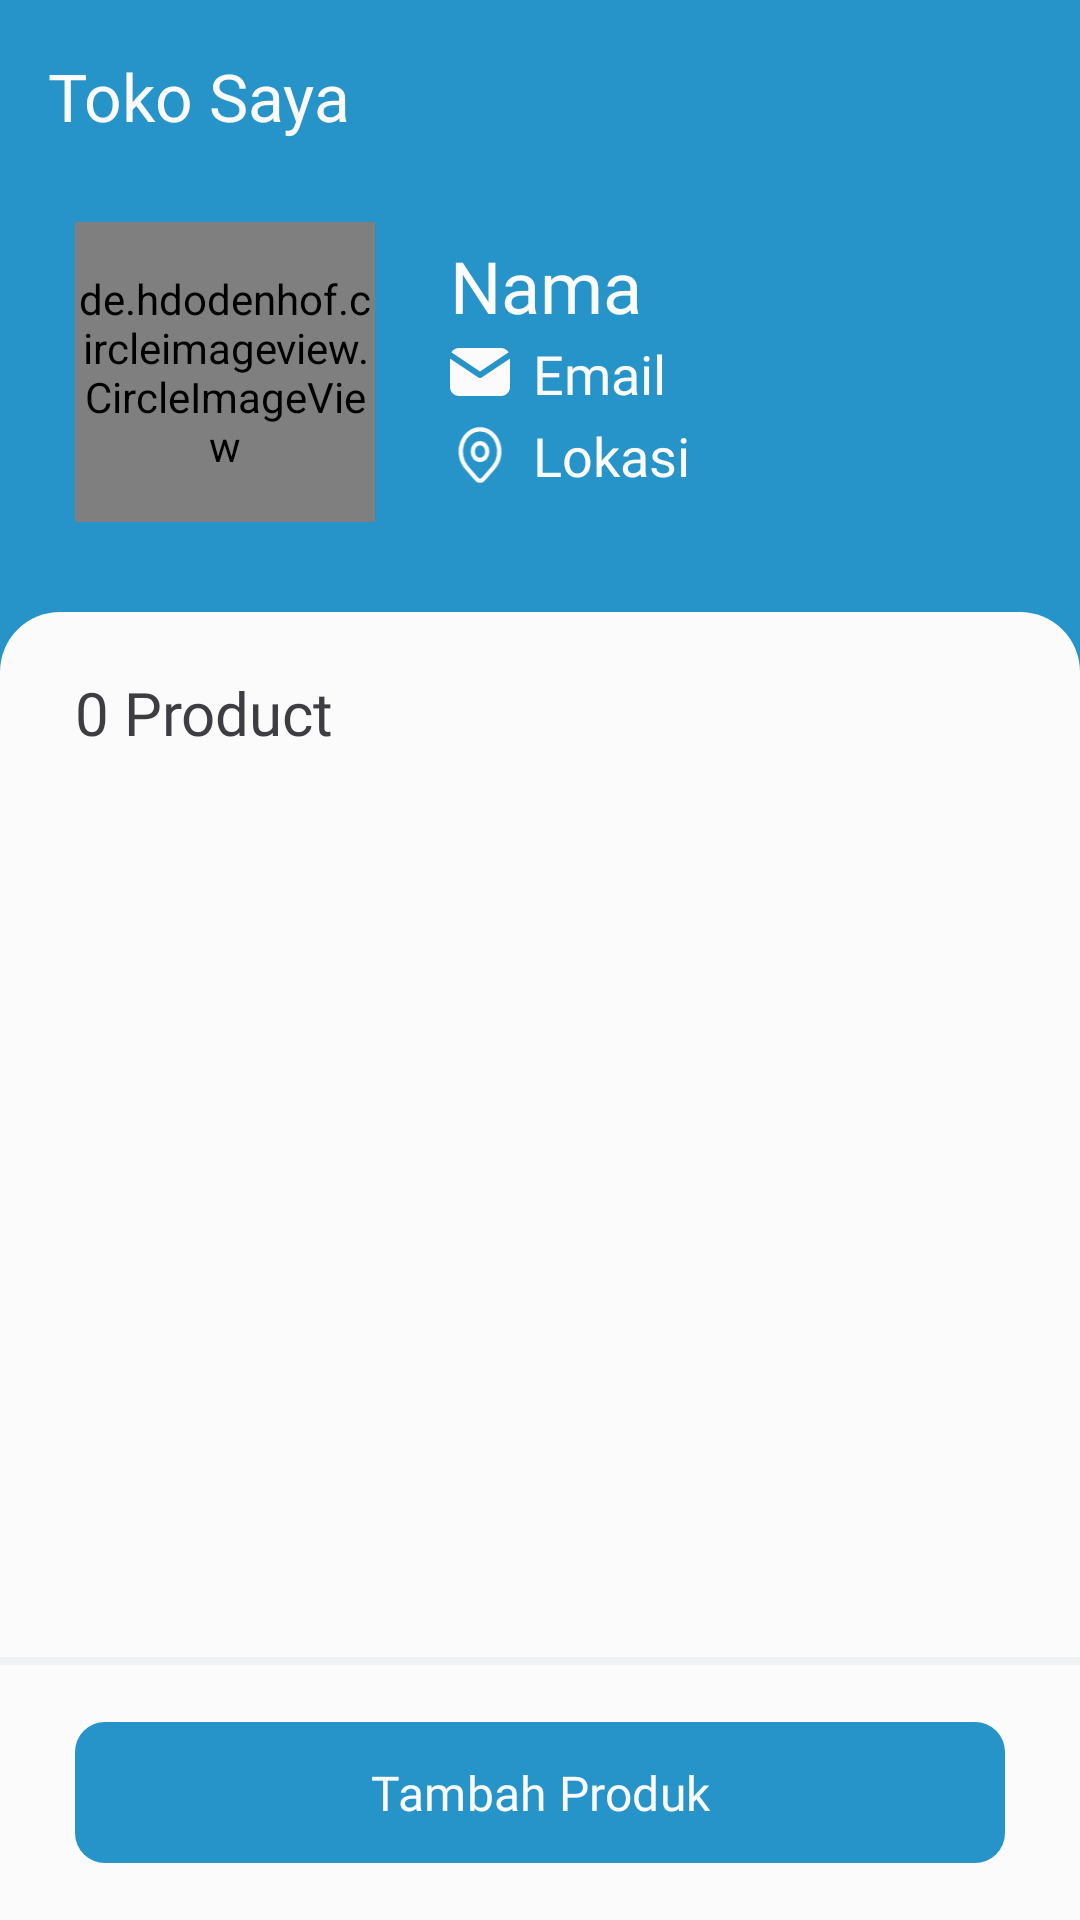

Where to tap for icons on this 1080 x 1920 app screen, as [x,y]:
Image Location Shop: [480,455]
